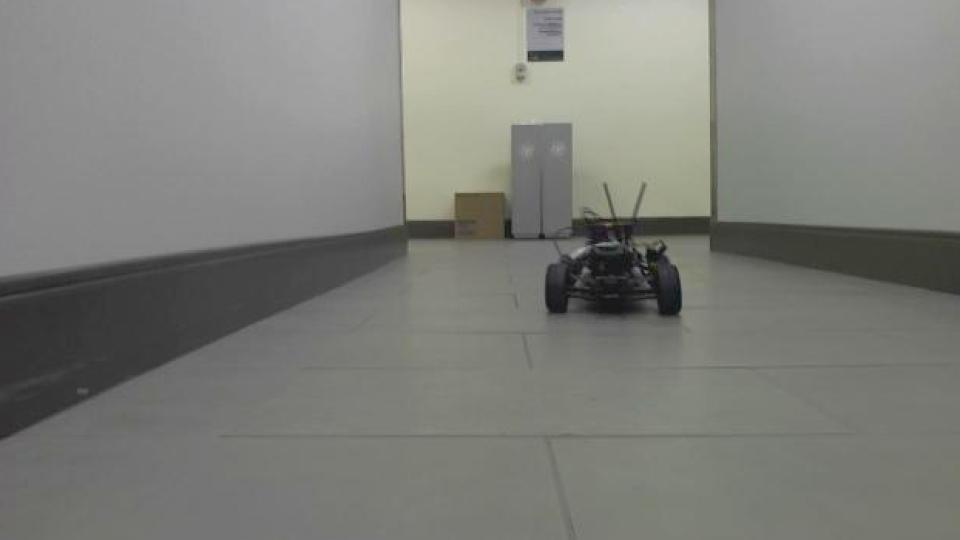car: (540, 179, 685, 319)
